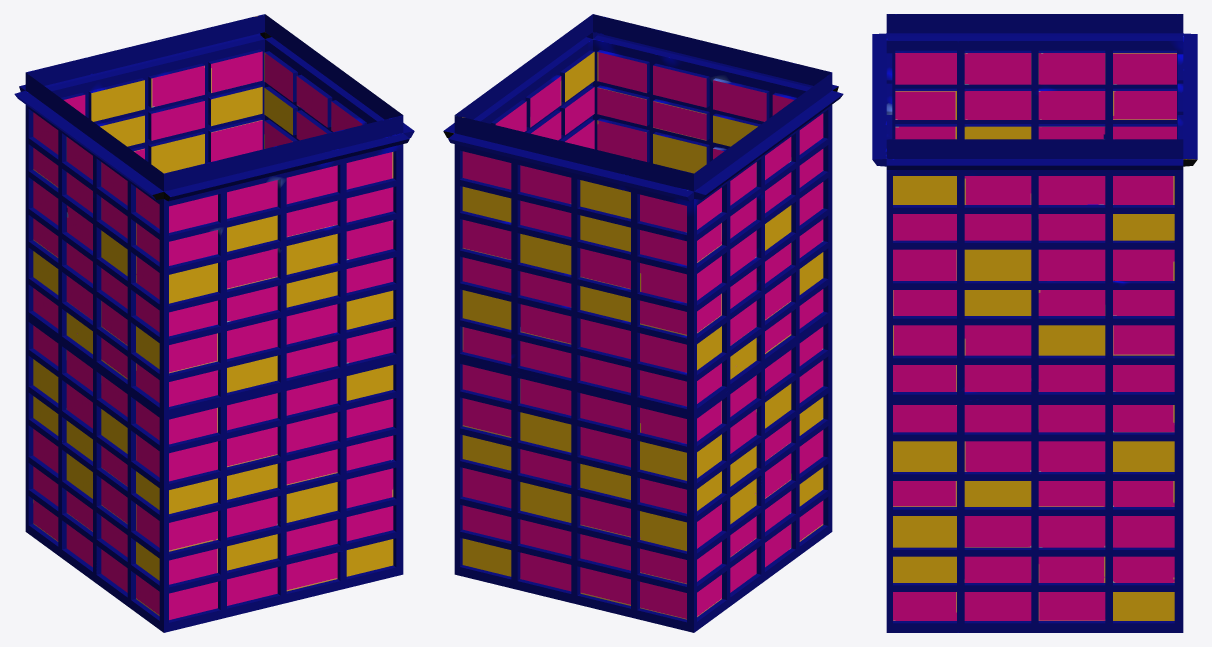
The model's file is Rascacielos.fbx.
3 renders of one model, left to right at view 1: azimuth 30°, elevation 25°; view 2: azimuth 150°, elevation 25°; view 3: azimuth 270°, elevation 25°, orthographic. The views are drawn at different scales.
Parts seen in each view (by area): view 1: Edificio_ventanales.003; view 2: Edificio_ventanales.003; view 3: Edificio_ventanales.003.
Boxes of the visible parts, x1=… form: Edificio_ventanales.003: x1=14, y1=14, x2=414, y2=632; Edificio_ventanales.003: x1=443, y1=14, x2=843, y2=632; Edificio_ventanales.003: x1=872, y1=14, x2=1197, y2=632.
Bounding box in the file's own units: 4094 × 6848 × 4094.
Materials: 1 (1 with a texture image).
